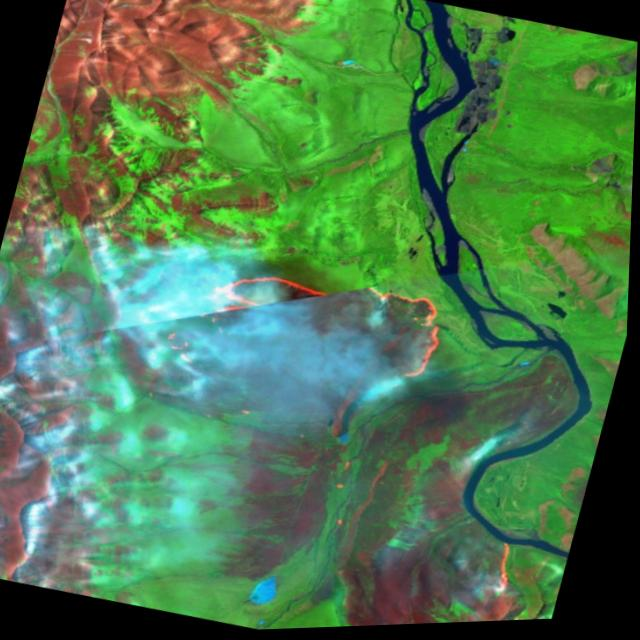fire: (157, 235, 465, 426), (470, 534, 535, 611)
